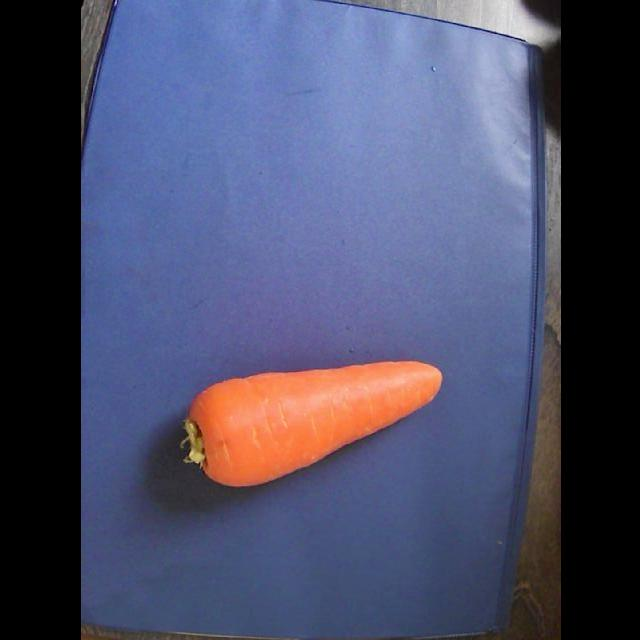zanahoria: (182, 362, 440, 486)
